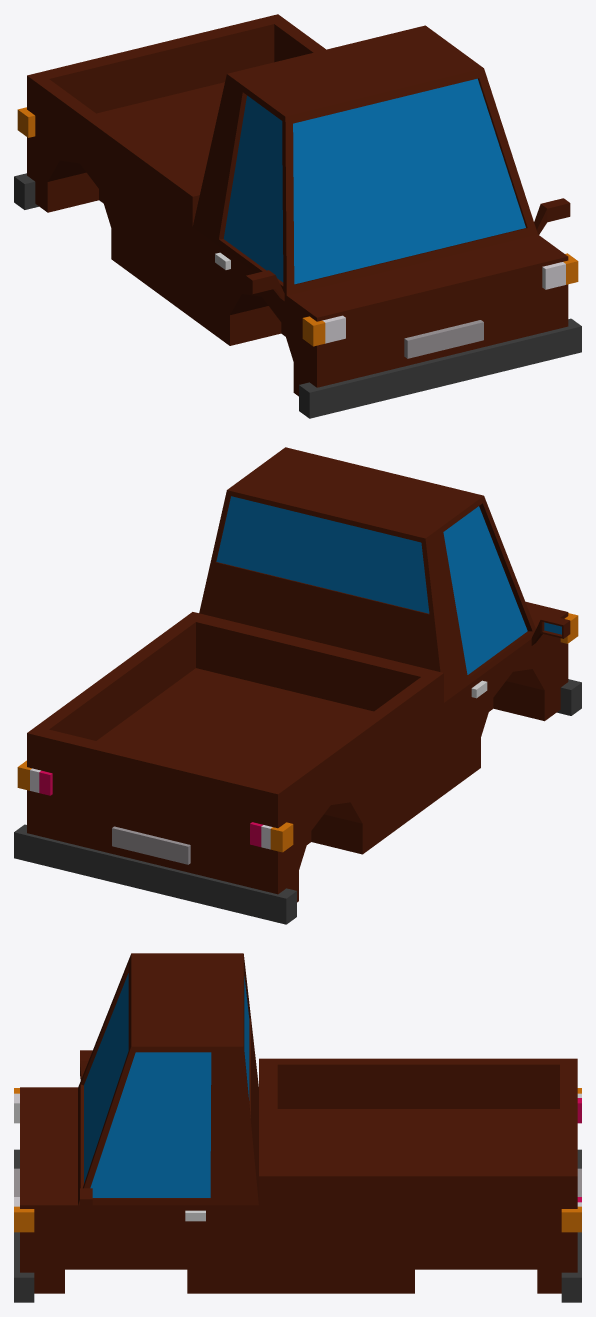
Rendered from car_5.fbx.
3 views of the same model, one above another, from view 1: azimuth 30°, elevation 25°; view 2: azimuth 150°, elevation 25°; view 3: azimuth 270°, elevation 25° (orthographic). The views are drawn at different scales.
Visible parts, largest first — view 1: car_5; view 2: car_5; view 3: car_5.
Boxes of the visible parts, box(x1,y1,x2,y2) form: car_5: box(14, 14, 581, 418); car_5: box(14, 447, 581, 924); car_5: box(14, 953, 581, 1302).
Bounding box in the file's own units: 253 × 189 × 408.
